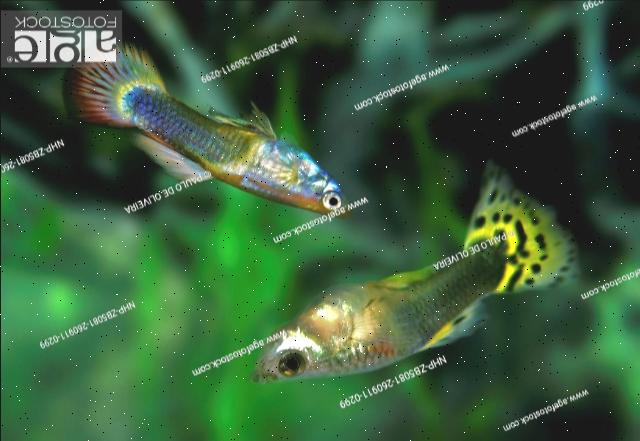Mulut: (234, 345, 286, 401), (312, 196, 368, 232)
Sirip Dada: (337, 290, 429, 358), (239, 132, 313, 196)
Sirip Ekor: (456, 151, 592, 305), (49, 35, 175, 137)
Sirip Punggung: (128, 127, 226, 201), (408, 289, 496, 367)
